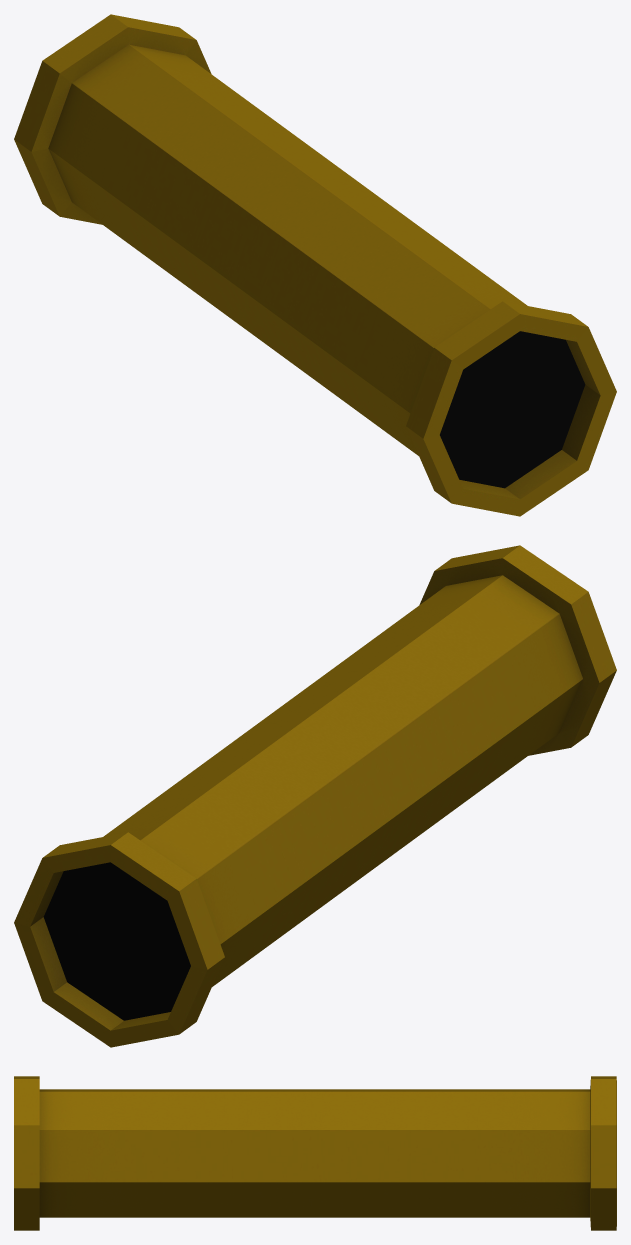
File: pipe.glb
The picture shows the model from 3 angles, top to bottom: view 1: azimuth 30°, elevation 25°; view 2: azimuth 150°, elevation 25°; view 3: azimuth 270°, elevation 25°; orthographic projection. The views are drawn at different scales.
Visible parts, largest first — view 1: Object001_Object001_mtl_0; view 2: Object001_Object001_mtl_0; view 3: Object001_Object001_mtl_0.
Part boxes in pixels (left/top/right/bottom): Object001_Object001_mtl_0: left=14, top=14, right=616, bottom=516; Object001_Object001_mtl_0: left=14, top=545, right=616, bottom=1047; Object001_Object001_mtl_0: left=14, top=1076, right=616, bottom=1230.
Size of the model in its own units: 0.2406 by 0.2406 by 0.8817.
1 material, 1 textured.
